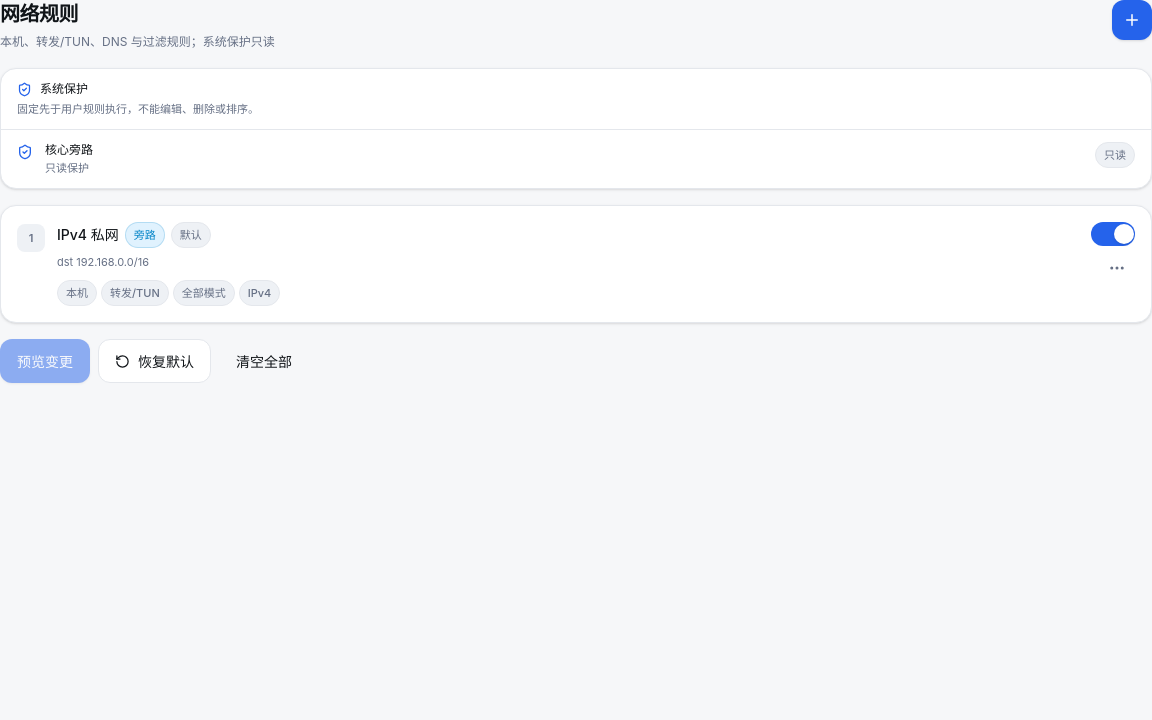
Test: NetworkRulesPage › keeps an edited draft locally before applying
Expected: the text "IPv4 私网" is shown, [57,225,119,245]
Click the button named "新增网络规则". click: (1132, 20)
box: [1112,0,1151,40]
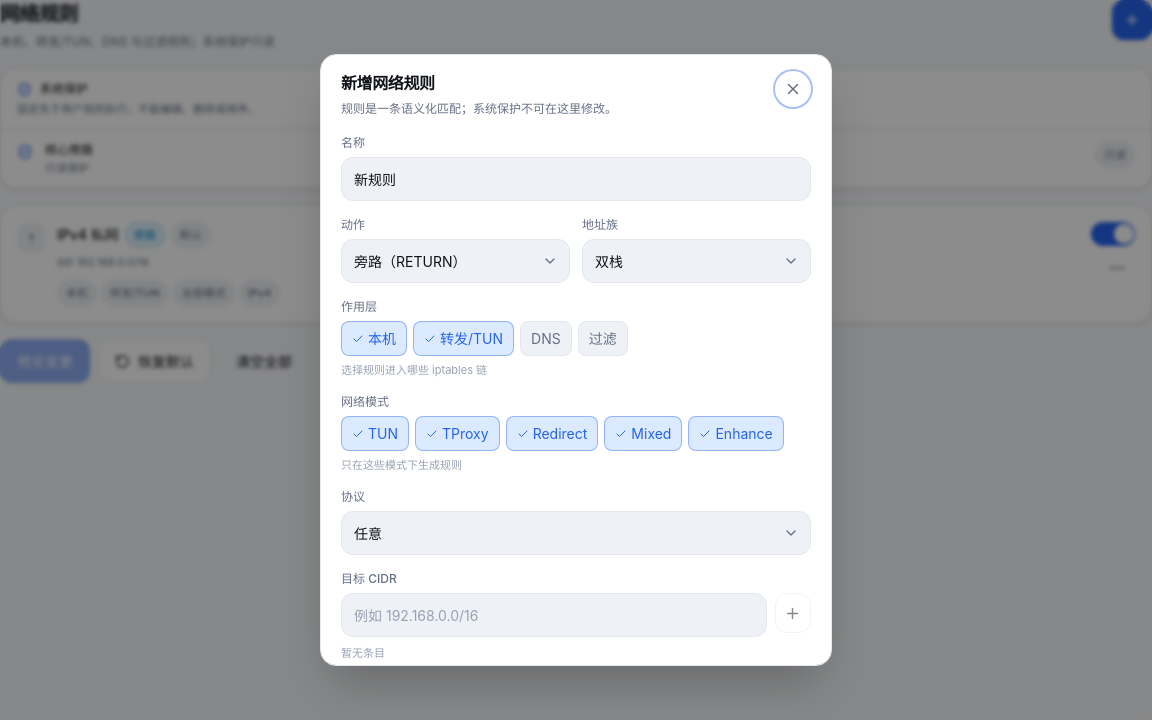
Replace the text in the field labelled "名称" with "测试草稿". click: (576, 179)
box: [341,157,811,201]
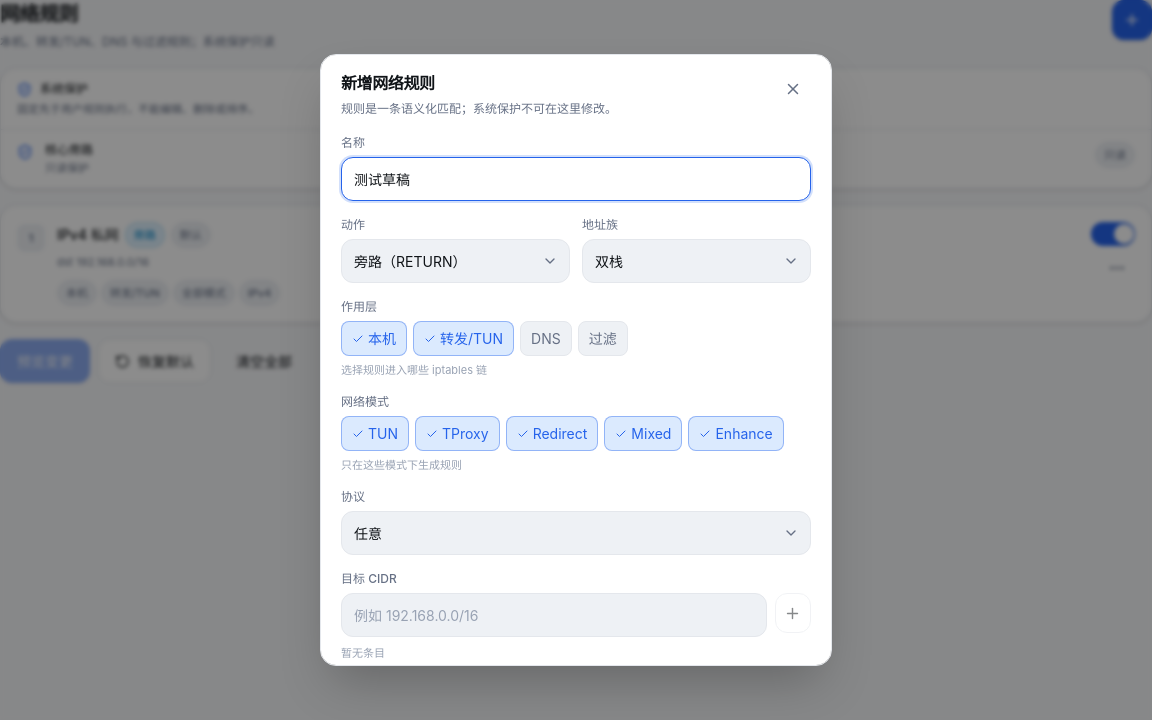
Type "203.0.113.0/24" into the field labelled "目标 CIDR". click: (554, 615)
box: [341,593,767,637]
Then press Enter
(page scrolled)
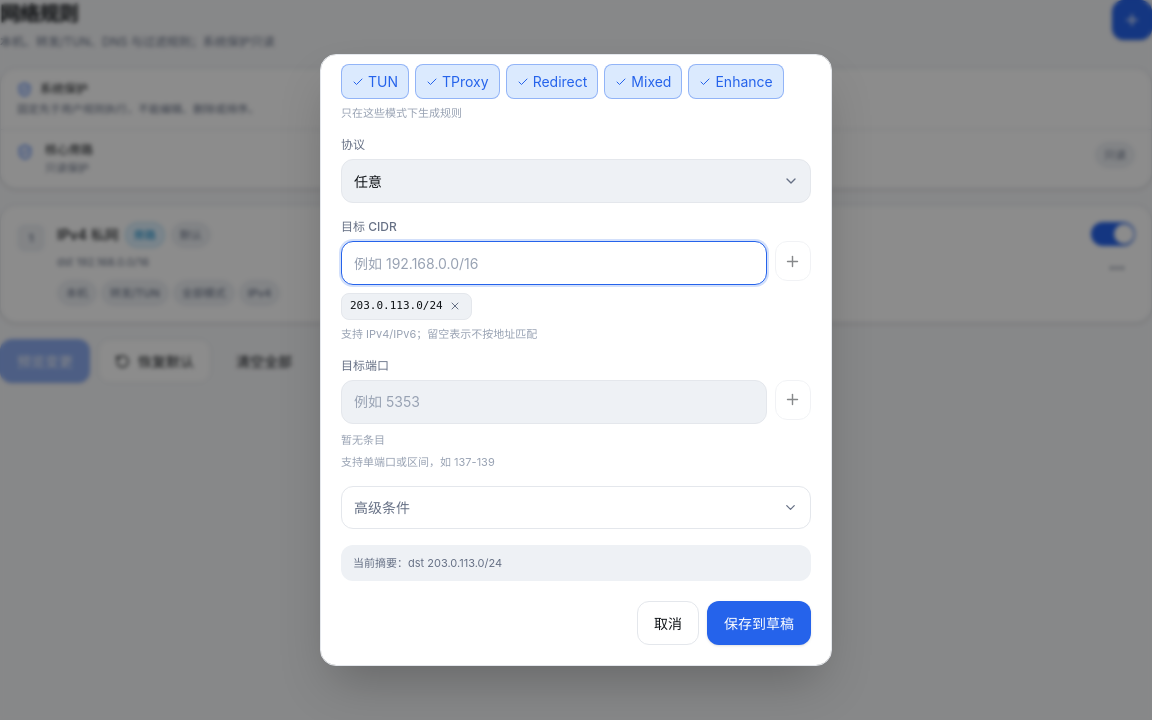
Click the button "保存到草稿". click: (759, 623)
box: [707,601,811,645]
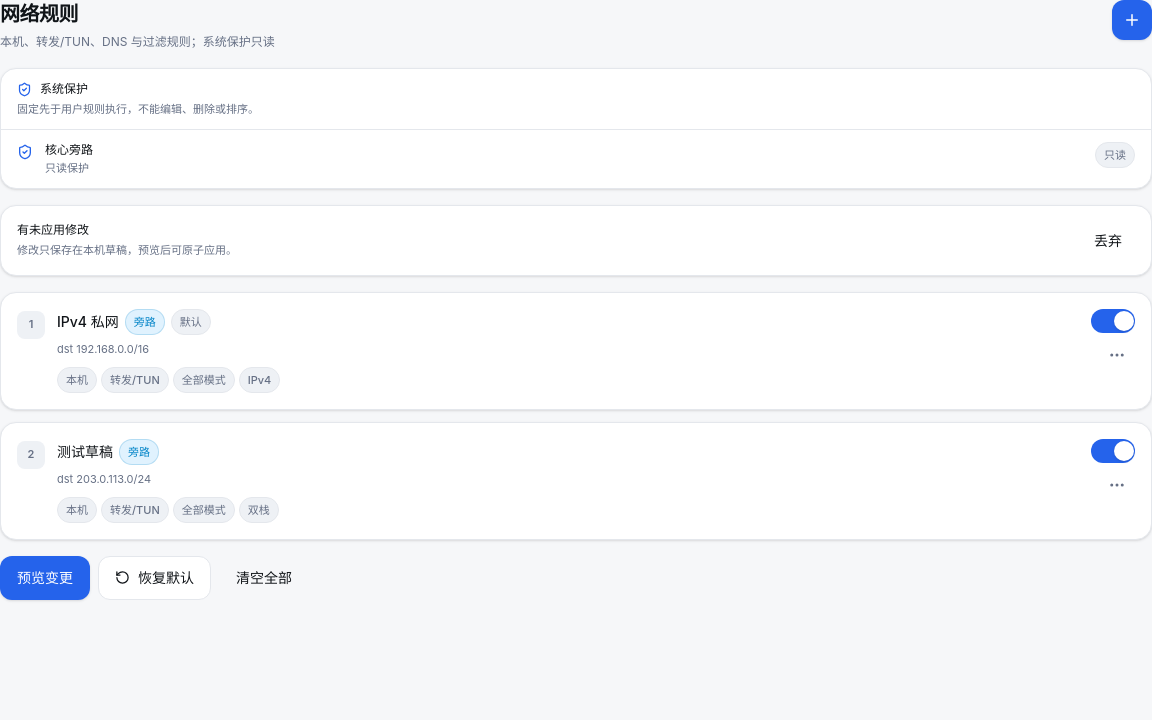
Now the text "测试草稿" is shown, box [57,442,113,462]
Now the text "有未应用修改" is shown, box [17,222,89,237]
